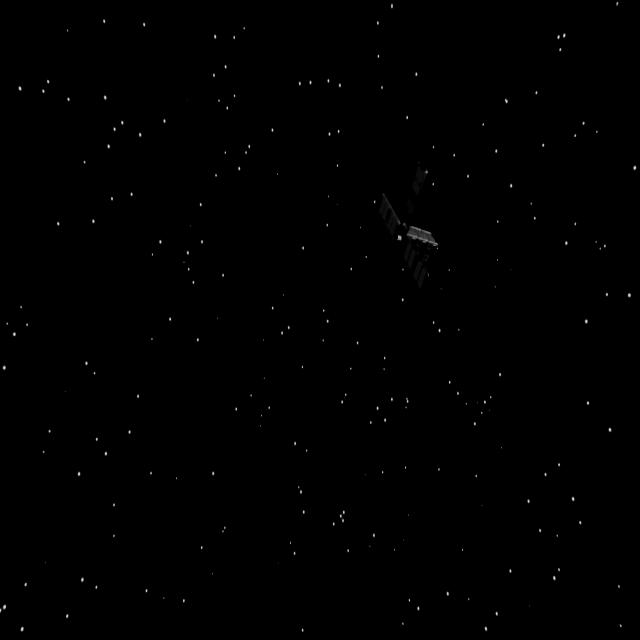satellite: (366, 160, 444, 298)
